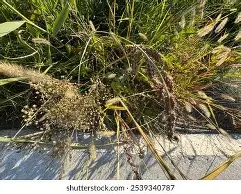weed: (0, 0, 240, 178)
